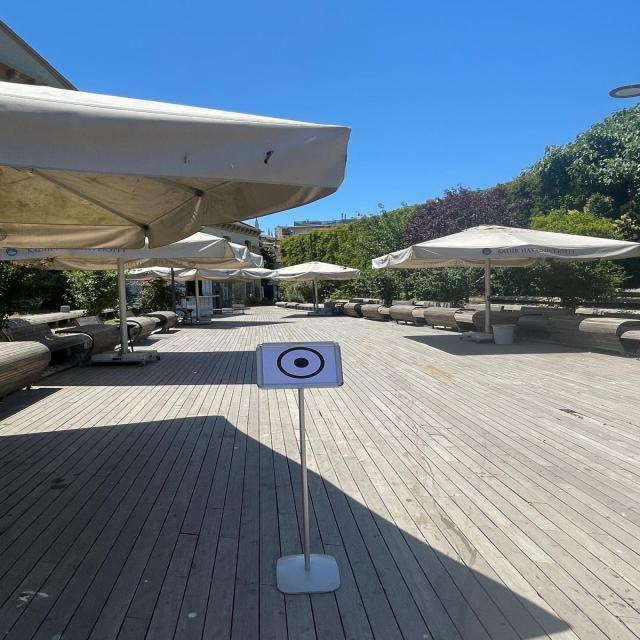Target: (245, 328, 355, 400)
inner: (292, 354, 311, 372)
